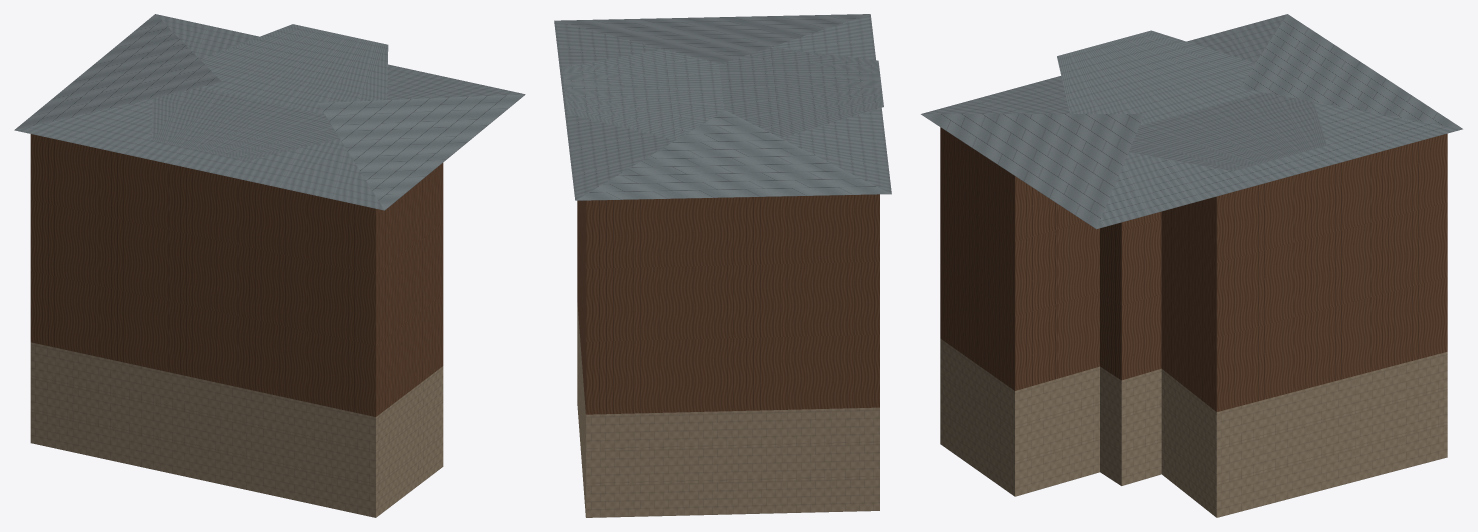
Rendered from bld_c20_31_366.gltf.
The picture shows the model from 3 angles, left to right: view 1: azimuth 30°, elevation 25°; view 2: azimuth 150°, elevation 25°; view 3: azimuth 270°, elevation 25°; orthographic projection. The views are drawn at different scales.
Parts seen in each view (by area): view 1: bld_c20_31_366; view 2: bld_c20_31_366; view 3: bld_c20_31_366.
Boxes of the visible parts, bbox=[...] form: bld_c20_31_366: bbox=[14, 14, 525, 517]; bld_c20_31_366: bbox=[554, 14, 891, 517]; bld_c20_31_366: bbox=[921, 14, 1462, 517].
Bounding box in the file's own units: 22.27 × 16.9 × 23.74.
Materials: 3 (3 with a texture image).
